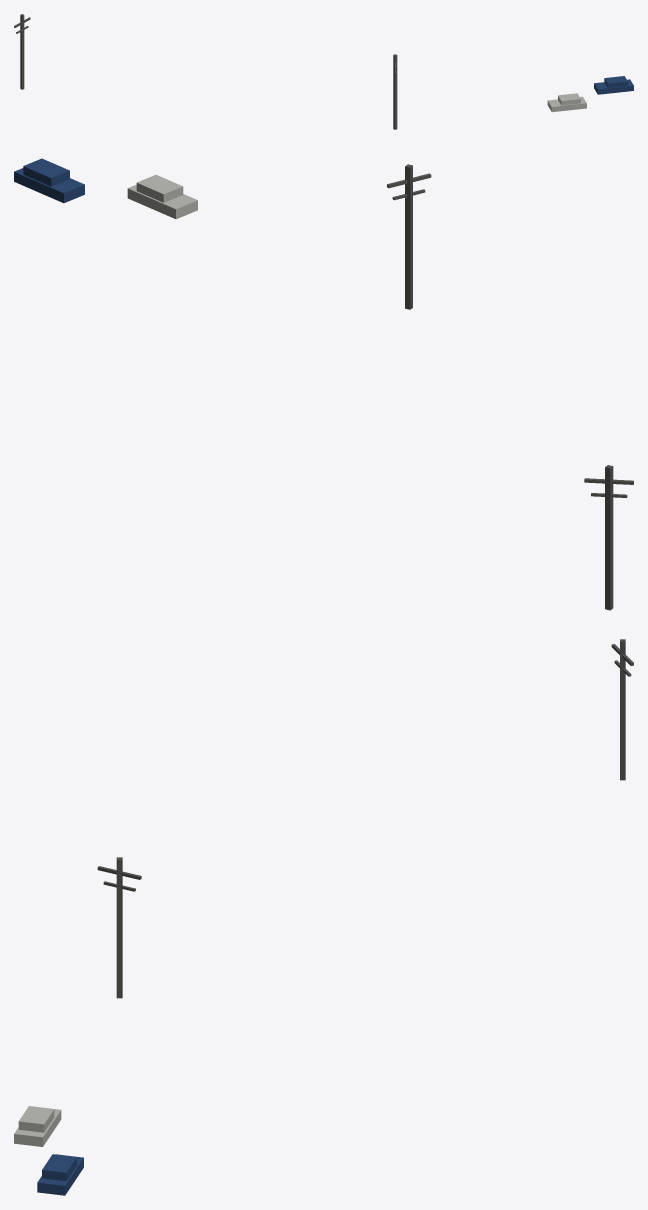
The picture shows the model from 3 angles, top to bottom: view 1: azimuth 30°, elevation 25°; view 2: azimuth 150°, elevation 25°; view 3: azimuth 270°, elevation 25°; orthographic projection. The views are drawn at different scales.
Parts seen in each view (by area): view 1: Props_Solid__r-20c-14-col; view 2: Props_Solid__r-20c-14-col, Props_Foliage__r-20c-14; view 3: Props_Solid__r-20c-14-col.
Part boxes in pixels (x1,y1,x2,y2): Props_Solid__r-20c-14-col: [20, 14, 633, 129]; Props_Solid__r-20c-14-col: [14, 158, 613, 610]; Props_Foliage__r-20c-14: [387, 173, 633, 497]; Props_Solid__r-20c-14-col: [14, 639, 625, 1195].
Bounding box in the file's own units: 63.03 × 9.5 × 38.51.
